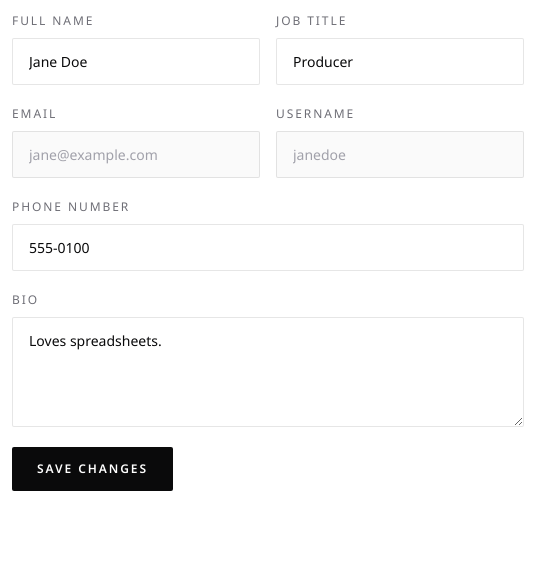
EditProfileForm › submits the trimmed field values and shows a success message
Replace the text in the field labelled "Job title" with "  Senior Producer  " at (400, 62), box [276,38,524,85]
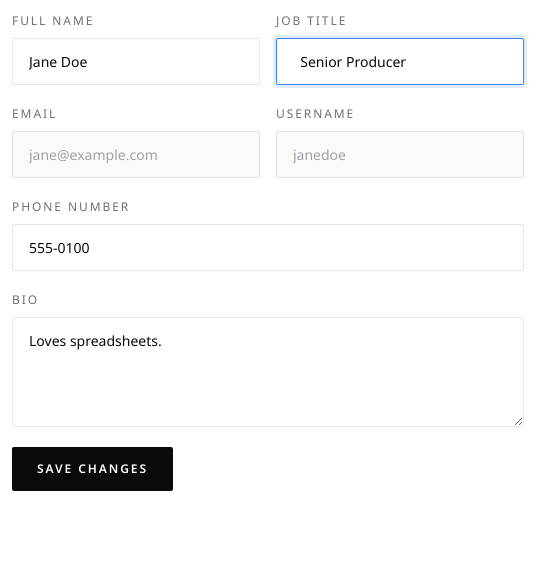
Click the button "Save changes".
click(92, 469)  # box [12,447,173,491]
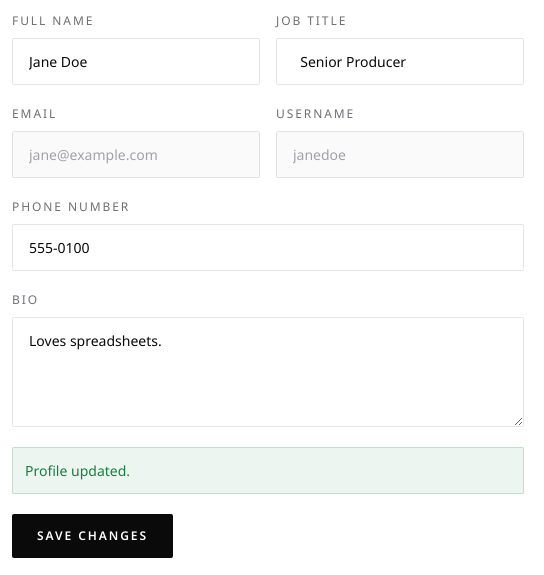
Check: the text "Profile updated." is shown, box [12,447,524,494]
